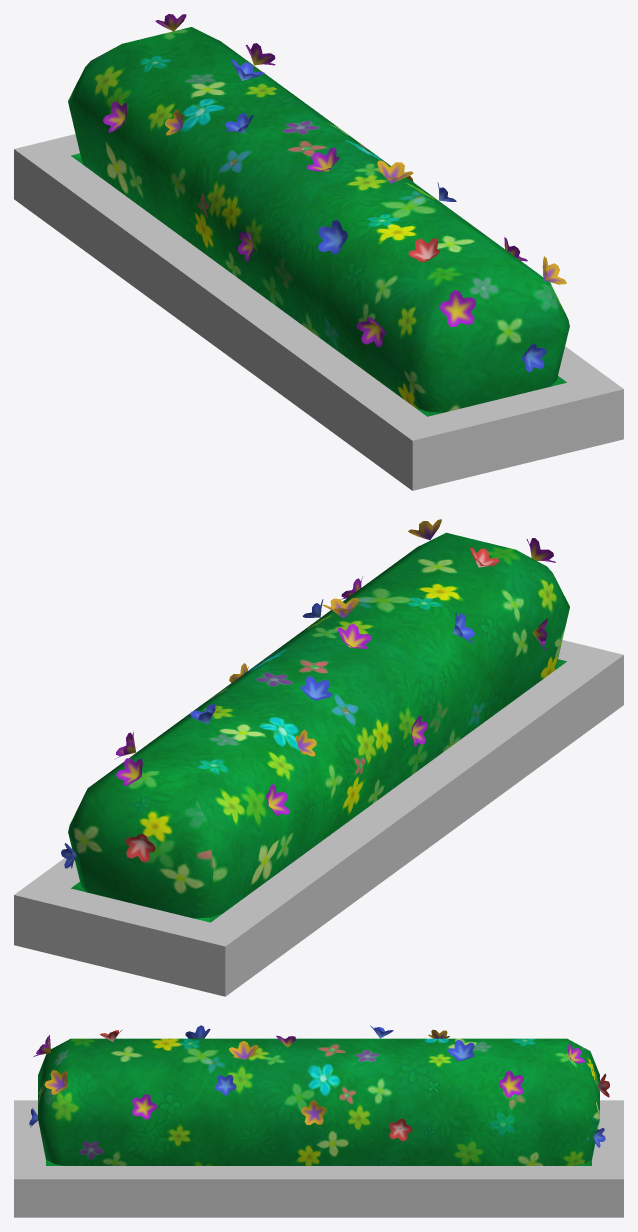
File: Plant04_a04.FBX
3 views of the same model, one above another, from view 1: azimuth 30°, elevation 25°; view 2: azimuth 150°, elevation 25°; view 3: azimuth 270°, elevation 25° (orthographic). The views are drawn at different scales.
Visible parts, largest first — view 1: Plant04_a04; view 2: Plant04_a04; view 3: Plant04_a04.
Boxes of the visible parts, x1,y1,x2,y2 form: Plant04_a04: (14, 14, 623, 490); Plant04_a04: (14, 519, 623, 996); Plant04_a04: (14, 1025, 623, 1217).
Bounding box in the file's own units: 208 × 173 × 678.
